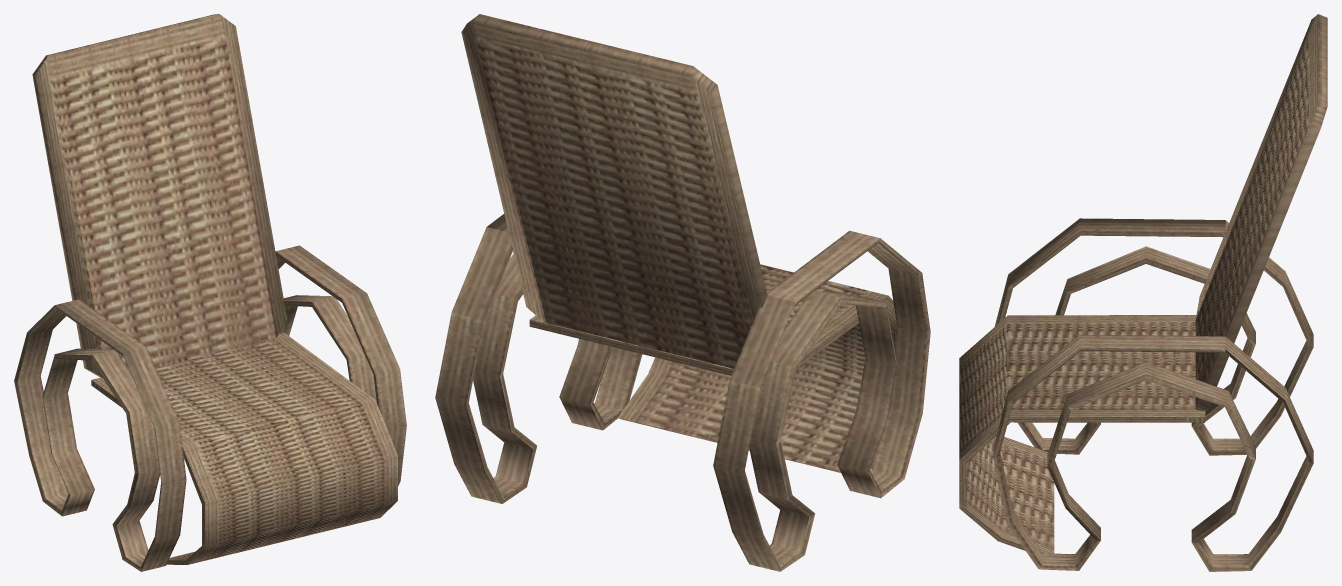
File: it__wicker_chair.fbx
3 renders of one model, left to right at view 1: azimuth 30°, elevation 25°; view 2: azimuth 150°, elevation 25°; view 3: azimuth 270°, elevation 25°, orthographic. The views are drawn at different scales.
Visible parts, largest first — view 1: mesh_0; view 2: mesh_0; view 3: mesh_0.
Part boxes in pixels (left/top/right/bottom): mesh_0: left=14, top=14, right=406, bottom=571; mesh_0: left=435, top=14, right=930, bottom=571; mesh_0: left=959, top=14, right=1327, bottom=571.
Size of the model in its own units: 79.74 by 129 by 95.99.
1 material, 1 textured.
